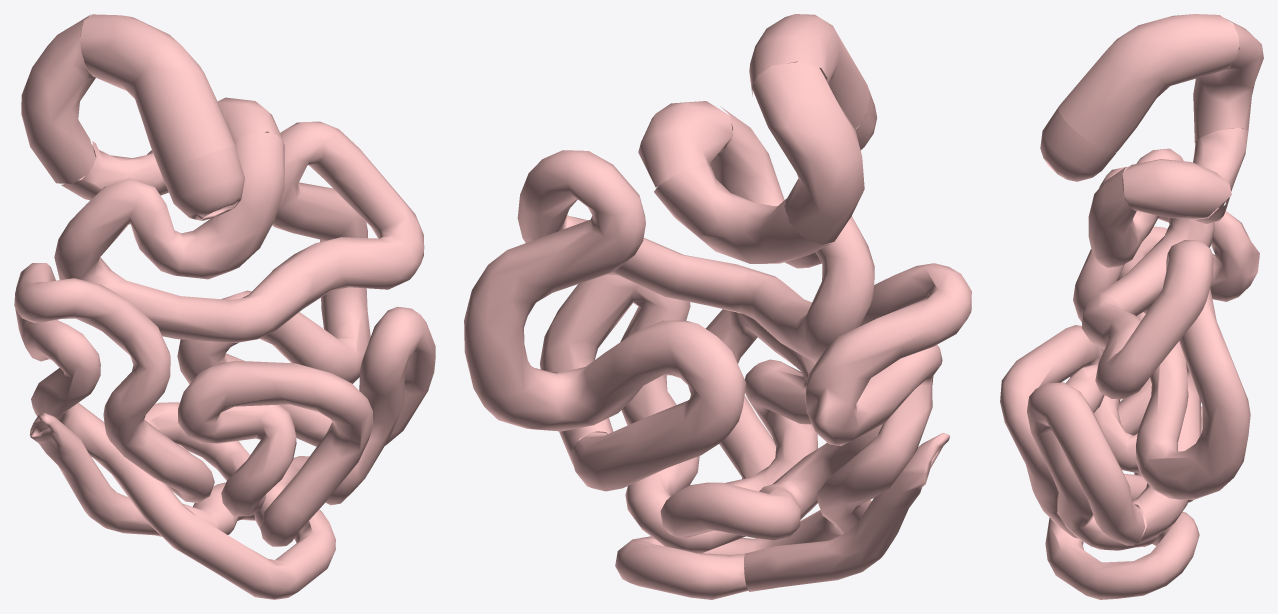
File: vh_f_small_intestine.glb
3 views of the same model, side by side, from view 1: azimuth 30°, elevation 25°; view 2: azimuth 150°, elevation 25°; view 3: azimuth 270°, elevation 25° (orthographic). The views are drawn at different scales.
Visible parts, largest first — view 1: VH_F_ileum, VH_F_jejenum, VH_F_duodenum_superior, VH_F_duodenum_descending, VH_F_ileum_terminal, VH_F_duodenal_ampulla, VH_F_duodenum_horizontal, VH_F_duodenum_ascending; view 2: VH_F_ileum, VH_F_jejenum, VH_F_duodenum_descending, VH_F_ileum_terminal, VH_F_duodenum_horizontal, VH_F_duodenum_superior, VH_F_duodenum_ascending; view 3: VH_F_jejenum, VH_F_ileum, VH_F_duodenum_superior, VH_F_duodenum_ascending, VH_F_duodenum_descending, VH_F_duodenal_ampulla, VH_F_duodenum_horizontal.
Part boxes in pixels (left/top/right/bottom): VH_F_ileum: left=14, top=263, right=435, bottom=599; VH_F_jejenum: left=54, top=121, right=424, bottom=446; VH_F_duodenum_superior: left=80, top=14, right=234, bottom=174; VH_F_duodenum_descending: left=21, top=14, right=95, bottom=183; VH_F_ileum_terminal: left=29, top=413, right=217, bottom=536; VH_F_duodenal_ampulla: left=162, top=146, right=244, bottom=220; VH_F_duodenum_horizontal: left=61, top=141, right=168, bottom=200; VH_F_duodenum_ascending: left=217, top=97, right=283, bottom=141; VH_F_ileum: left=540, top=263, right=971, bottom=599; VH_F_jejenum: left=464, top=106, right=874, bottom=491; VH_F_duodenum_descending: left=751, top=62, right=864, bottom=244; VH_F_ileum_terminal: left=744, top=433, right=949, bottom=591; VH_F_duodenum_horizontal: left=654, top=163, right=830, bottom=263; VH_F_duodenum_superior: left=749, top=14, right=869, bottom=129; VH_F_duodenum_ascending: left=638, top=101, right=733, bottom=188; VH_F_jejenum: left=1081, top=148, right=1250, bottom=541; VH_F_ileum: left=1000, top=166, right=1259, bottom=599; VH_F_duodenum_superior: left=1058, top=14, right=1239, bottom=152; VH_F_duodenum_ascending: left=1122, top=159, right=1231, bottom=219; VH_F_duodenum_descending: left=1193, top=18, right=1263, bottom=142; VH_F_duodenal_ampulla: left=1040, top=107, right=1116, bottom=181; VH_F_duodenum_horizontal: left=1191, top=127, right=1248, bottom=223.
Size of the model in its own units: 0.1617 by 0.217 by 0.1003.
